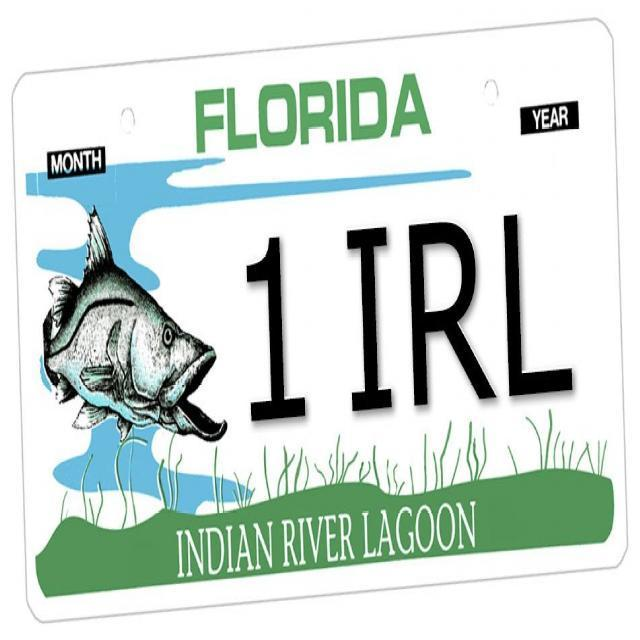License_Plate: (10, 20, 628, 628)
